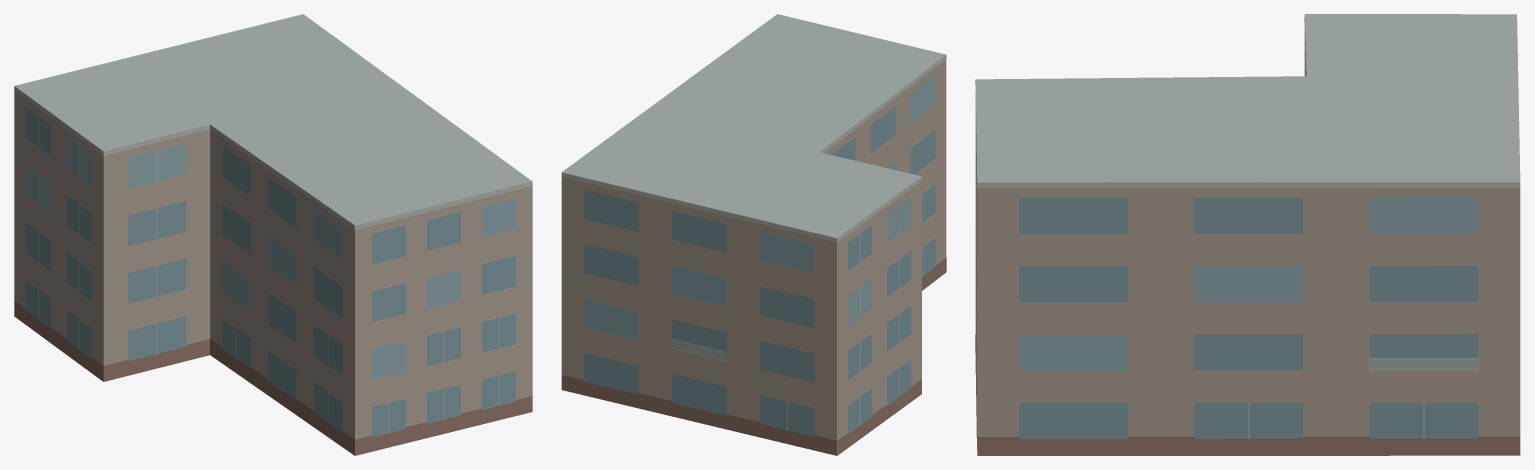
The model's file is survey-upis-32599607.glb.
The picture shows the model from 3 angles, left to right: view 1: azimuth 30°, elevation 25°; view 2: azimuth 150°, elevation 25°; view 3: azimuth 270°, elevation 25°; orthographic projection. The views are drawn at different scales.
Visible parts, largest first — view 1: survey-upis-32599607.tmp; view 2: survey-upis-32599607.tmp; view 3: survey-upis-32599607.tmp.
Boxes of the visible parts, box(x1,y1,x2,y2) form: survey-upis-32599607.tmp: box(14, 14, 532, 455); survey-upis-32599607.tmp: box(561, 14, 946, 455); survey-upis-32599607.tmp: box(975, 14, 1520, 455).
Bounding box in the file's own units: 16.16 × 12.2 × 22.04.
